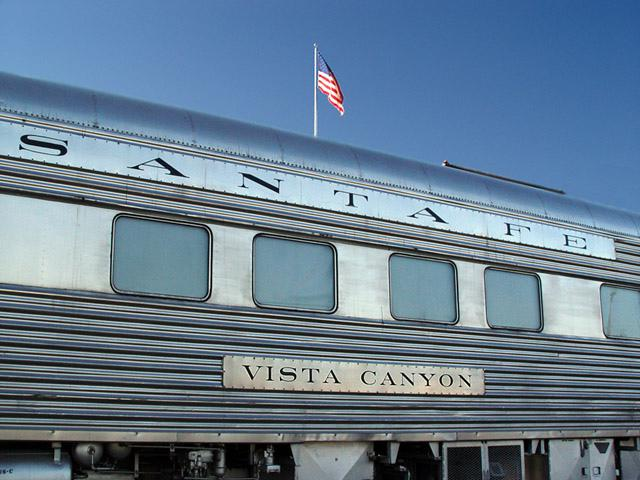Train: (0, 68, 640, 474)
